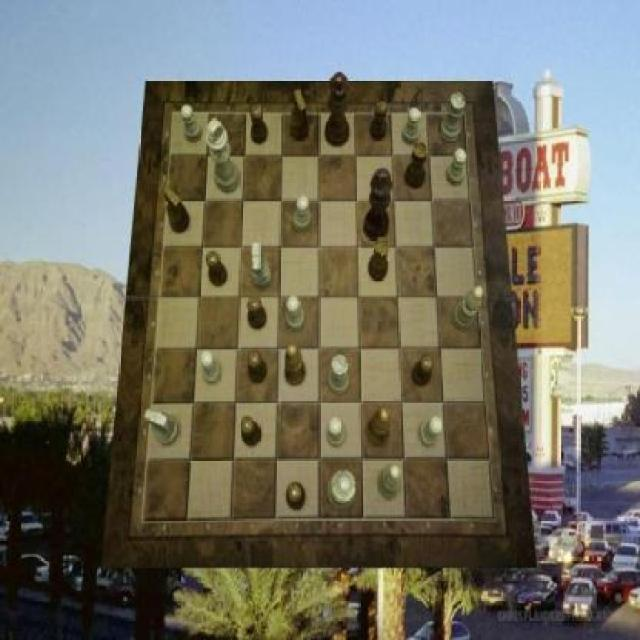bishop: (284, 343, 306, 385), (368, 408, 390, 445)
black-bishop: (365, 169, 392, 242)
black-king: (163, 186, 189, 234), (290, 89, 308, 142)
black-knight: (412, 355, 435, 388), (206, 251, 227, 287), (251, 104, 268, 144), (371, 102, 388, 142), (240, 417, 261, 448), (248, 350, 267, 384), (248, 297, 267, 331), (286, 483, 306, 511)
black-pawn: (326, 72, 351, 147)
black-queen: (404, 142, 428, 189), (368, 238, 390, 282)
black-rook: (452, 285, 483, 330), (378, 464, 402, 500)
white-bishop: (206, 119, 240, 193)
white-king: (145, 409, 180, 447), (250, 243, 272, 289)
white-knight: (448, 148, 468, 185), (182, 105, 202, 142), (420, 417, 443, 449), (202, 349, 222, 384), (286, 295, 306, 330), (402, 106, 419, 144), (294, 196, 311, 232), (328, 417, 345, 448)
white-pawn: (328, 471, 358, 511)
white-queen: (440, 94, 466, 143), (328, 356, 350, 396)
